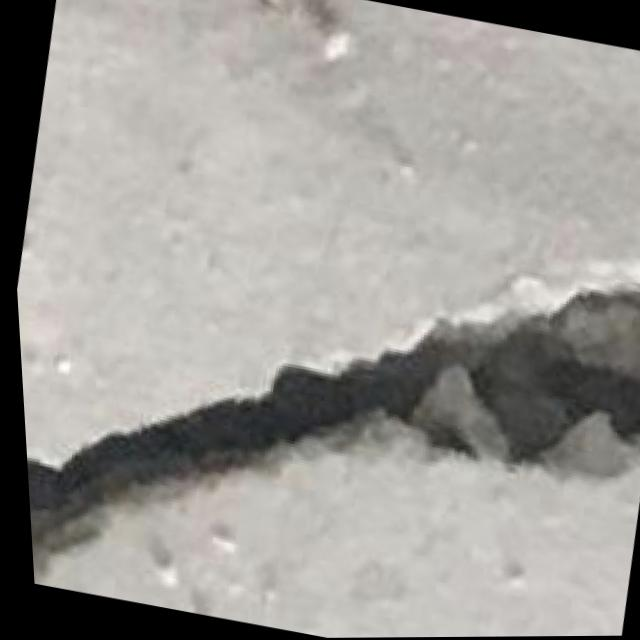Crack: (9, 193, 640, 634)
